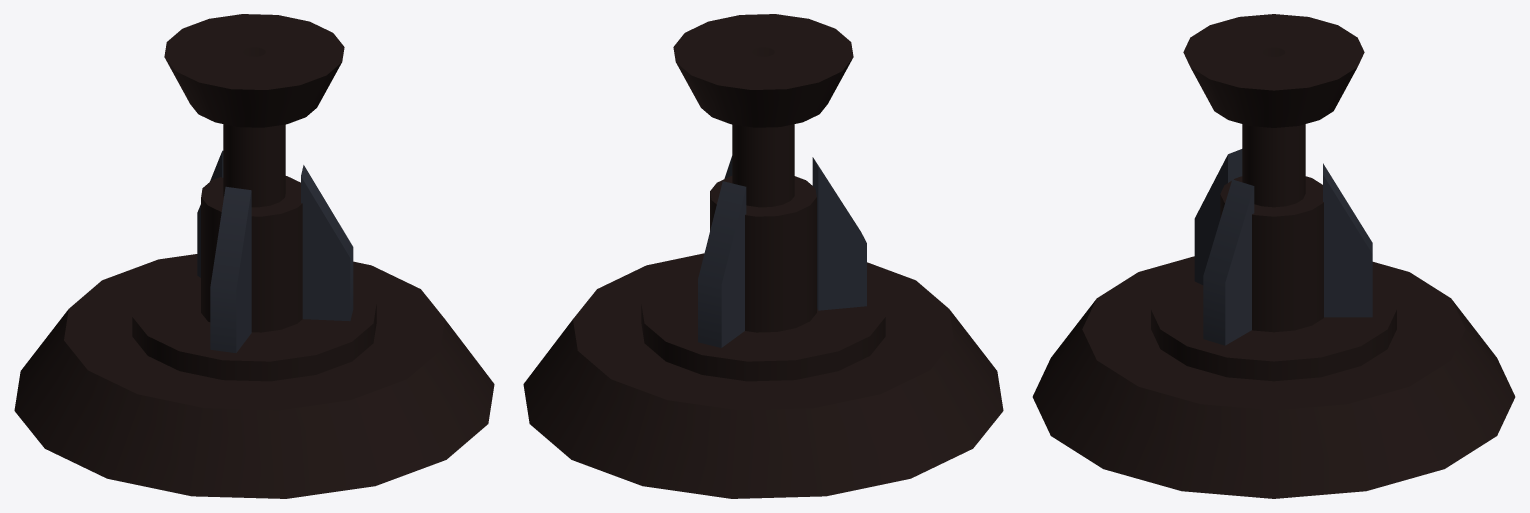
Rendered from bottom.fbx.
3 renders of one model, left to right at view 1: azimuth 30°, elevation 25°; view 2: azimuth 150°, elevation 25°; view 3: azimuth 270°, elevation 25°, orthographic.
Parts seen in each view (by area): view 1: TurretBottom; view 2: TurretBottom; view 3: TurretBottom.
Boxes of the visible parts, x1,y1,x2,y2 form: TurretBottom: [14, 14, 494, 498]; TurretBottom: [523, 14, 1003, 498]; TurretBottom: [1032, 14, 1515, 498].
Bounding box in the file's own units: 278 × 278 × 219.
